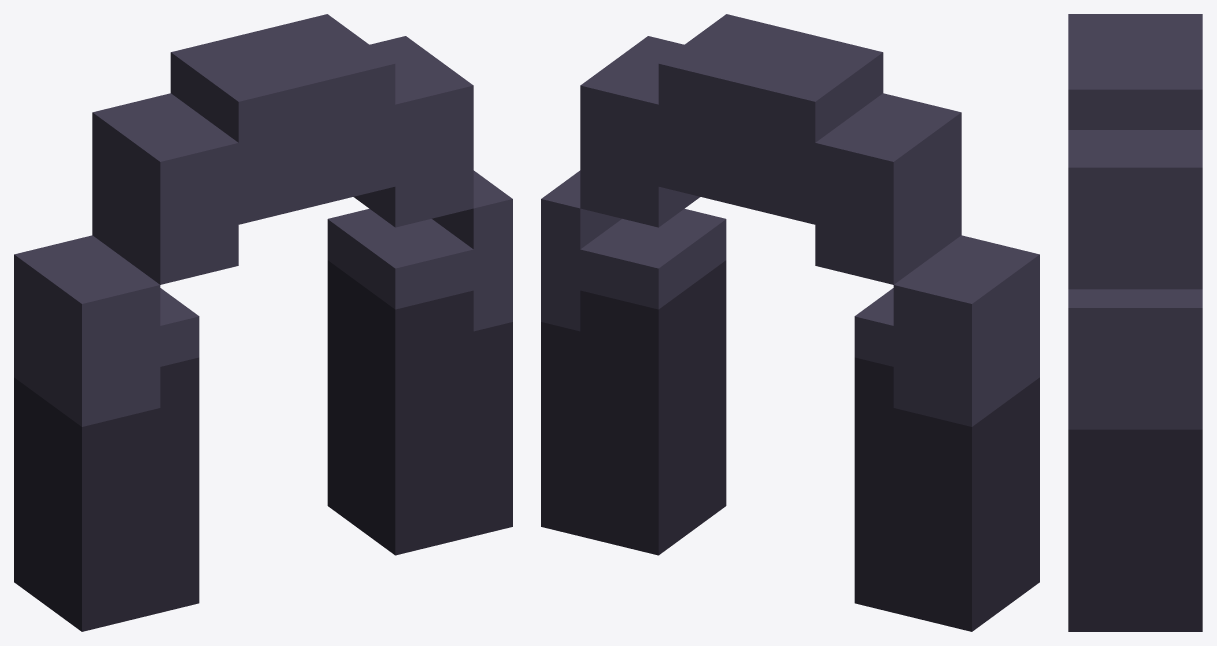
The model's file is arch.glb.
3 renders of one model, left to right at view 1: azimuth 30°, elevation 25°; view 2: azimuth 150°, elevation 25°; view 3: azimuth 270°, elevation 25°, orthographic.
Visible parts, largest first — view 1: arch; view 2: arch; view 3: arch.
Boxes of the visible parts, box(x1,y1,x2,y2) form: arch: box(14, 14, 512, 631); arch: box(541, 14, 1039, 631); arch: box(1068, 14, 1202, 631).
Size of the model in its own units: 1.1 by 1.2 by 0.3.
